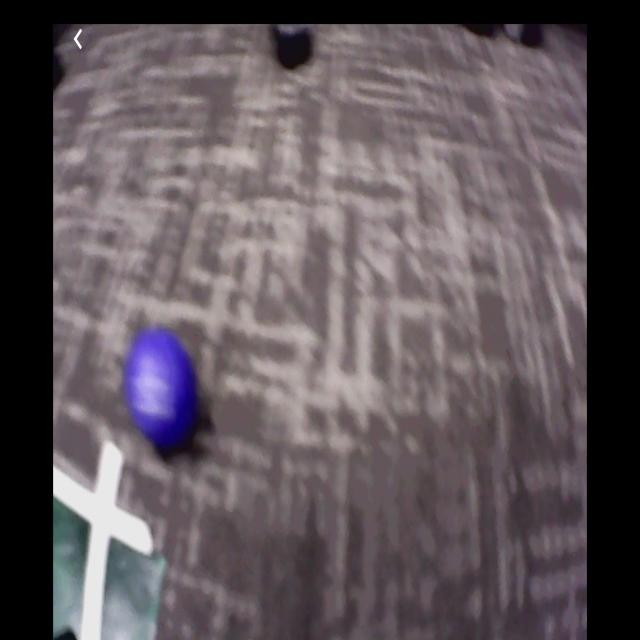ball: (126, 333, 196, 444)
